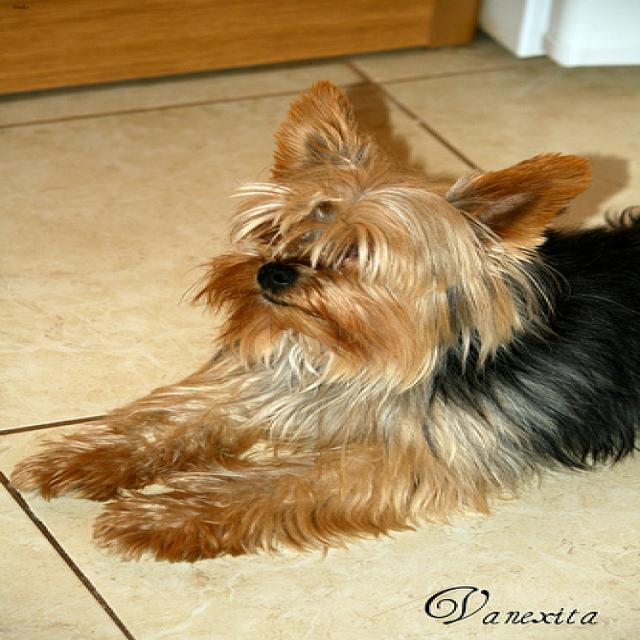dog-yorkshire_terrier: (2, 69, 636, 577)
